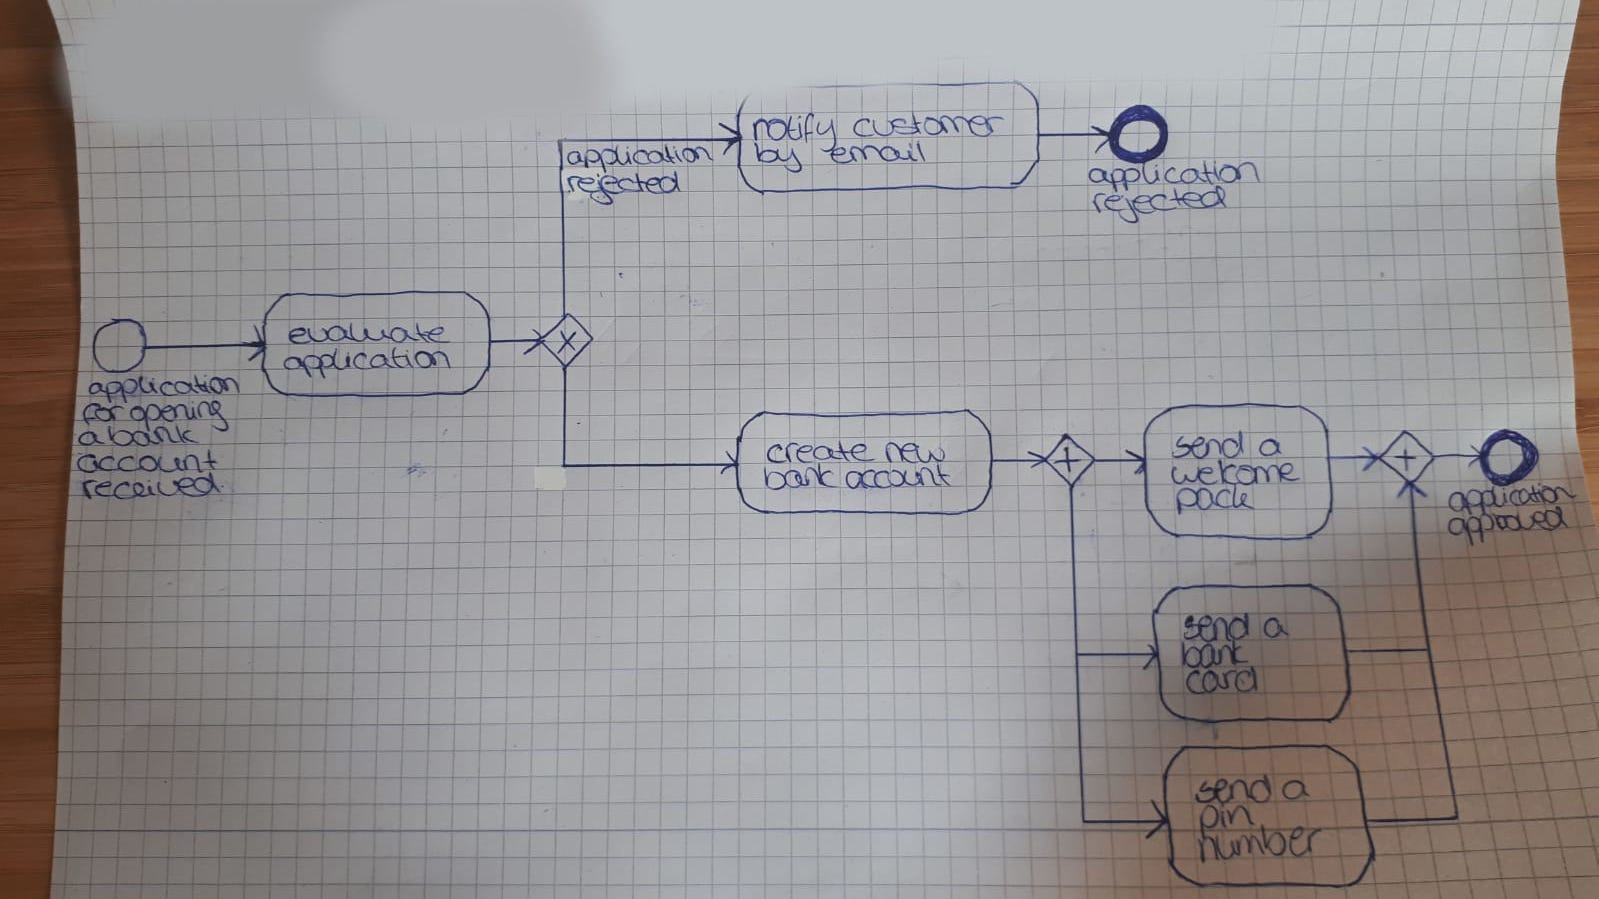a: (1277, 773, 1313, 806), (1259, 613, 1291, 647), (75, 427, 110, 453), (1255, 432, 1284, 461)
account: (74, 450, 222, 477), (842, 463, 958, 492)
application: (1088, 155, 1263, 191), (278, 345, 457, 379), (83, 368, 243, 404), (562, 141, 715, 172), (1442, 486, 1579, 515)
approved: (1444, 509, 1573, 547)
bank: (102, 423, 202, 453), (756, 467, 842, 493), (1176, 639, 1249, 670)
by: (751, 146, 809, 178)
card: (1177, 667, 1268, 700)
create: (759, 432, 876, 467)
customer: (852, 111, 1010, 141)
email: (825, 139, 933, 175)
evaluate: (283, 317, 450, 347)
for: (80, 402, 128, 431)
new: (881, 437, 953, 467)
notify: (748, 109, 847, 150)
number: (1193, 828, 1329, 869)
opening: (126, 397, 236, 428)
pack: (1172, 485, 1256, 519)
pin: (1194, 802, 1257, 836)
received: (76, 473, 224, 506)
rejected: (1088, 186, 1230, 227), (561, 173, 684, 209)
send: (1193, 771, 1281, 804), (1167, 430, 1252, 461), (1179, 613, 1255, 642)
welcome: (1164, 460, 1300, 487)
